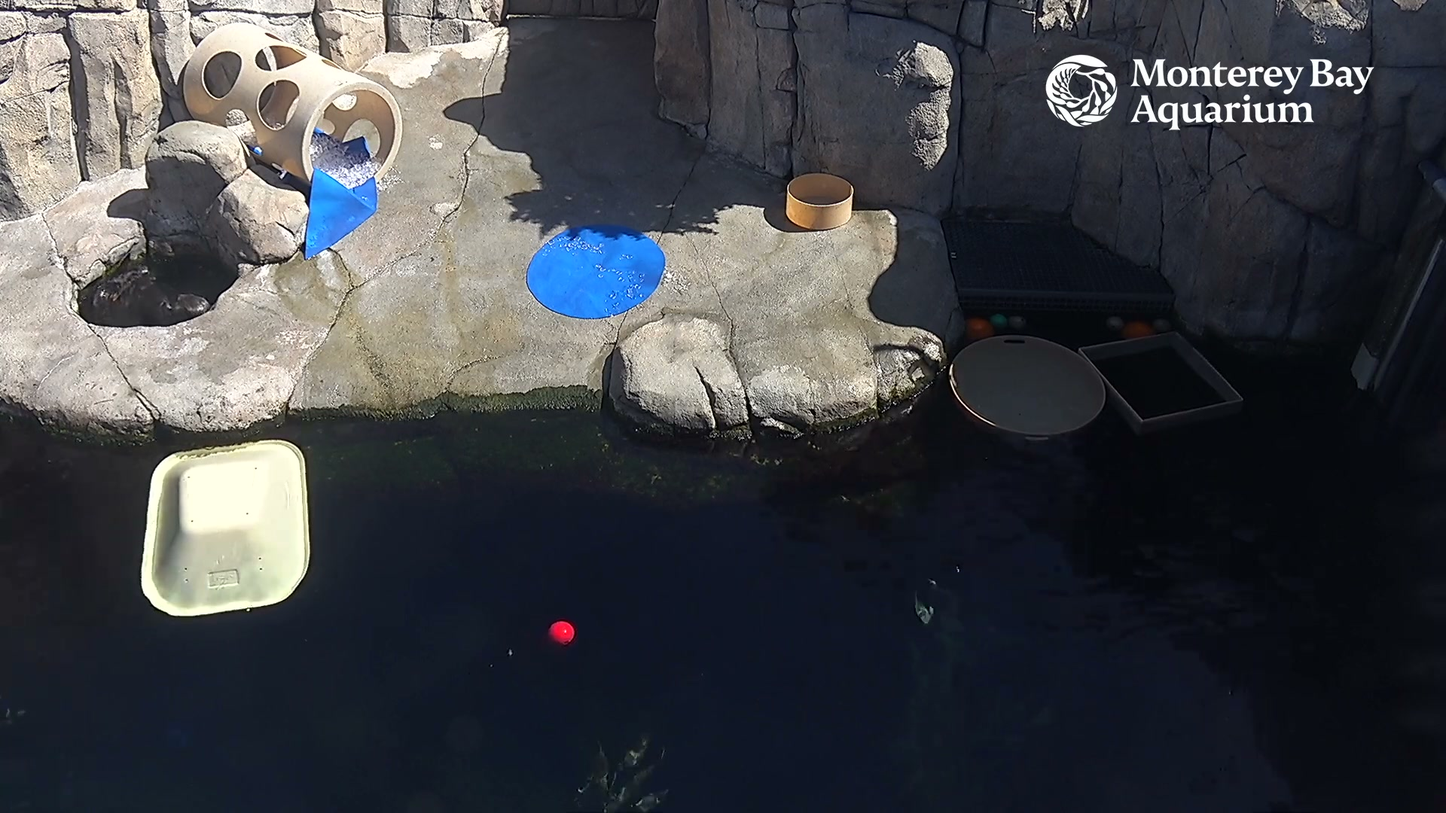Southern Sea Otter: (83, 240, 213, 324)
